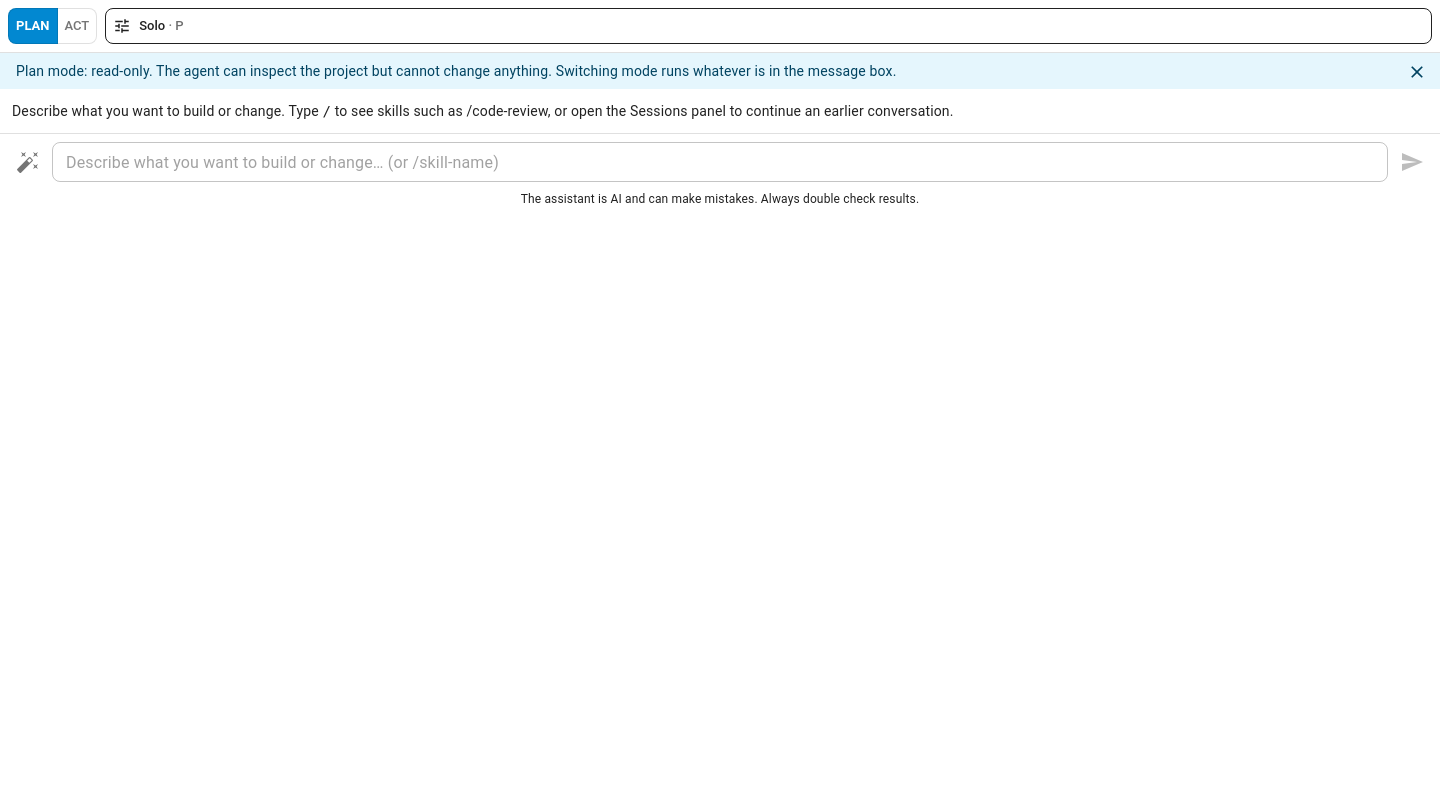
it: badges: model picker › offers "Show more" for a model whose only detail is its badges
The image size is (1440, 810).
Click the button with aria-label "Model:" at coordinates (122, 26), box left=105, top=8, right=1432, bottom=44
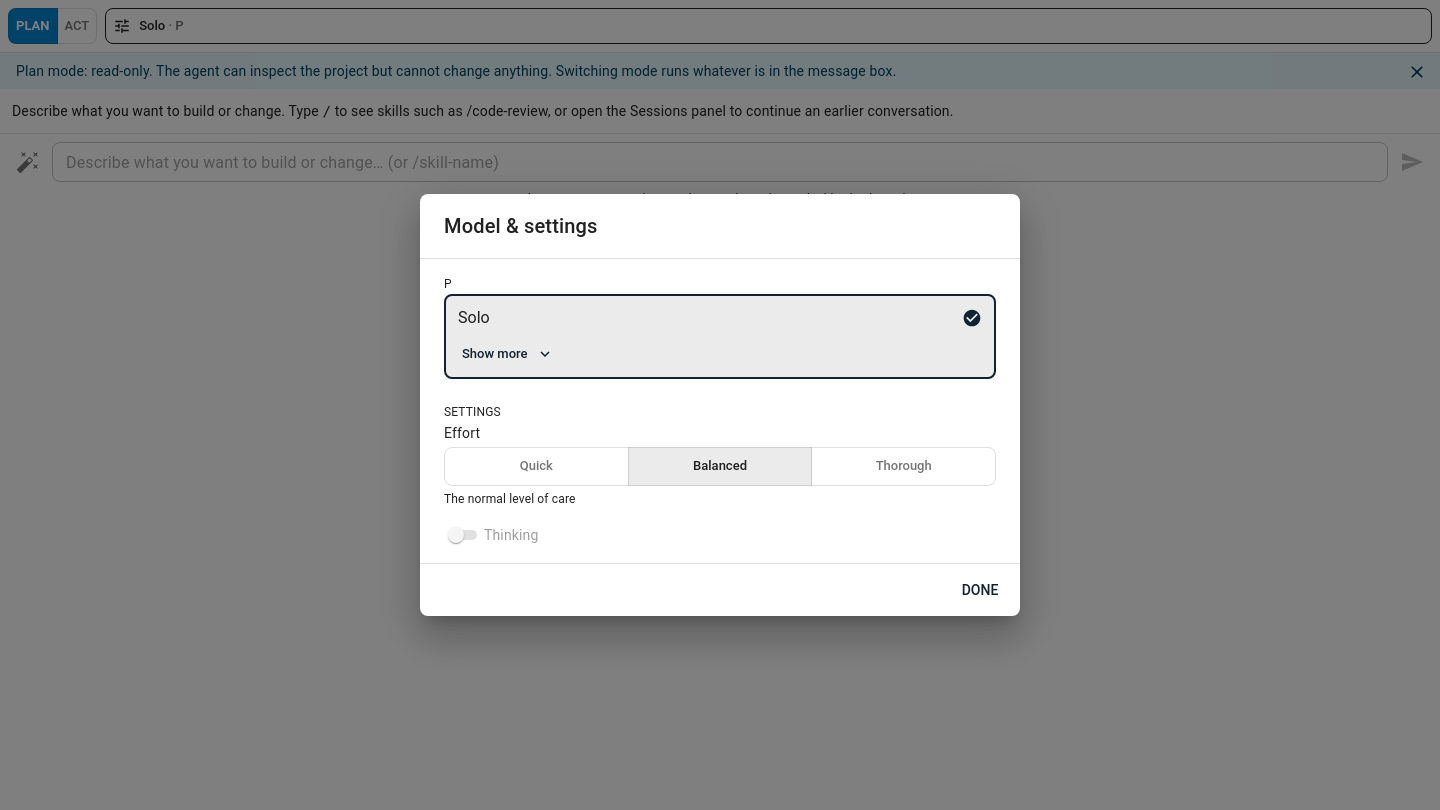
Expected: the text "Coding" is not shown
Click the button "Show more" at coordinates (507, 354), box left=458, top=339, right=556, bottom=369
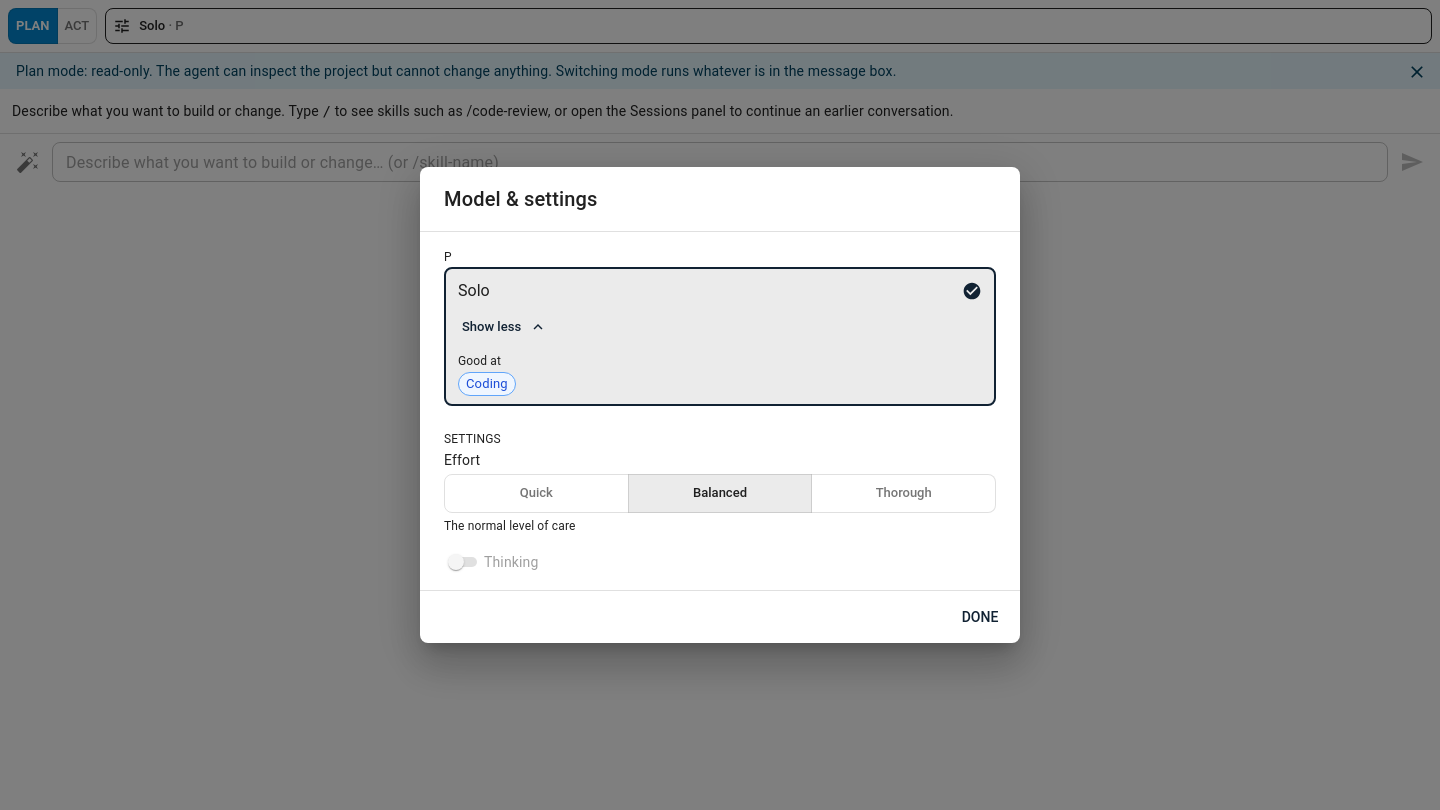
Expected: the text "Coding" is shown, left=466, top=376, right=508, bottom=392
